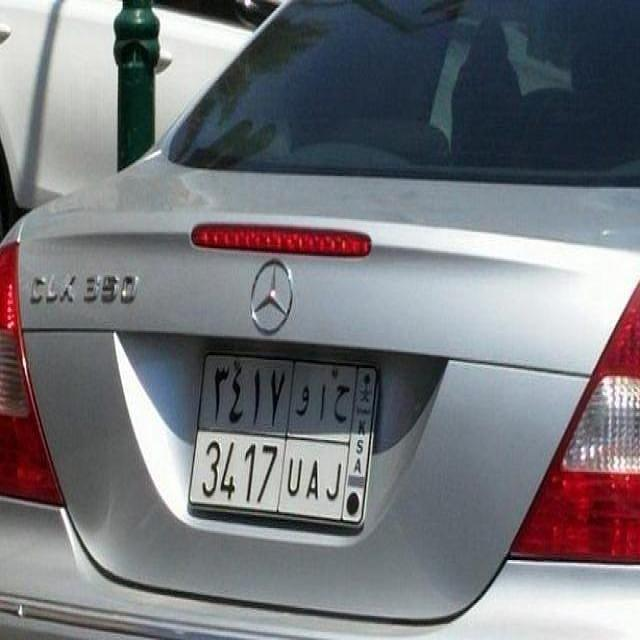license_plate: (170, 346, 383, 548)
